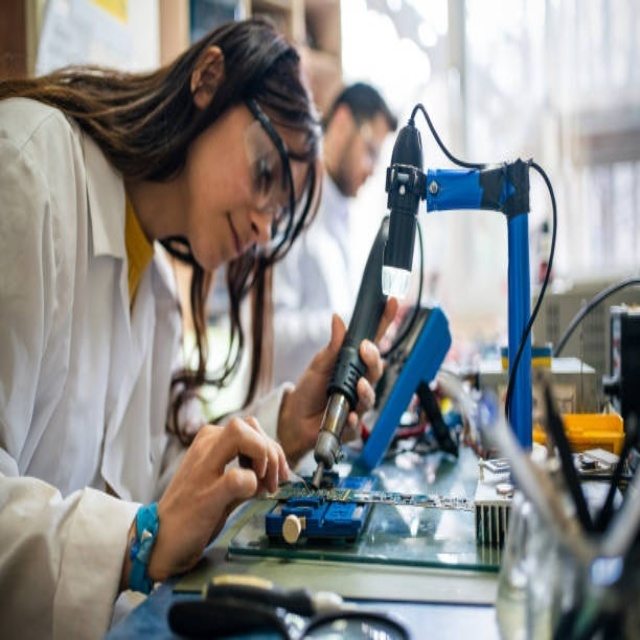Gafas: (243, 91, 298, 259)
Sin_guantes: (152, 414, 283, 579), (278, 306, 388, 466)
Sin_mascara: (197, 198, 246, 273)
